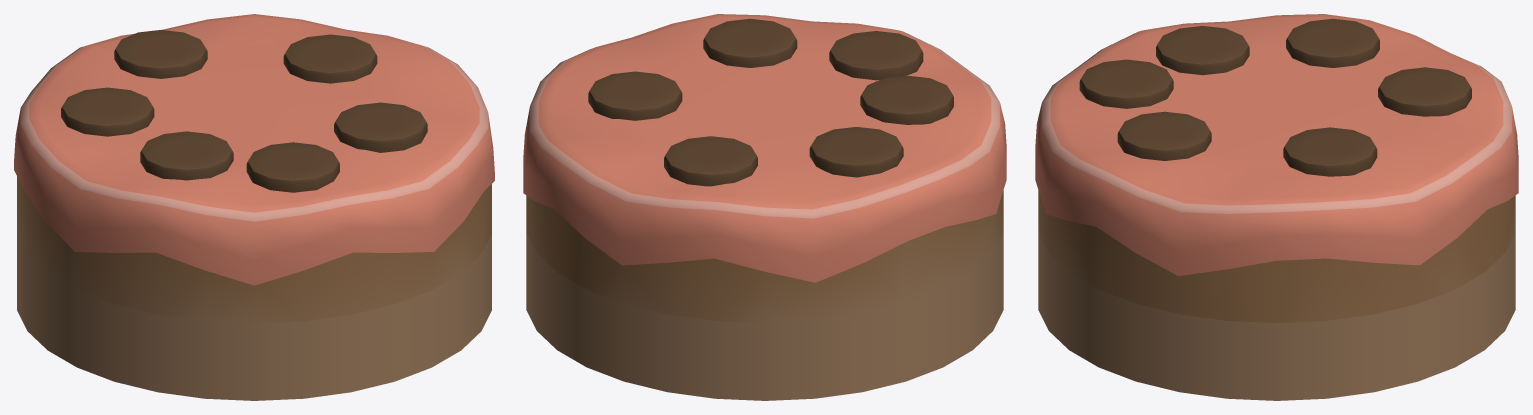
The model's file is Pastel_3.FBX.
The picture shows the model from 3 angles, left to right: view 1: azimuth 30°, elevation 25°; view 2: azimuth 150°, elevation 25°; view 3: azimuth 270°, elevation 25°; orthographic projection.
Parts seen in each view (by area): view 1: Pequeño; view 2: Pequeño; view 3: Pequeño.
Part boxes in pixels (box(x1,y1,x2,y2)): Pequeño: box(14, 14, 494, 400); Pequeño: box(523, 14, 1006, 400); Pequeño: box(1035, 14, 1518, 400).
Size of the model in its own units: 86.86 by 86.38 by 40.2.
